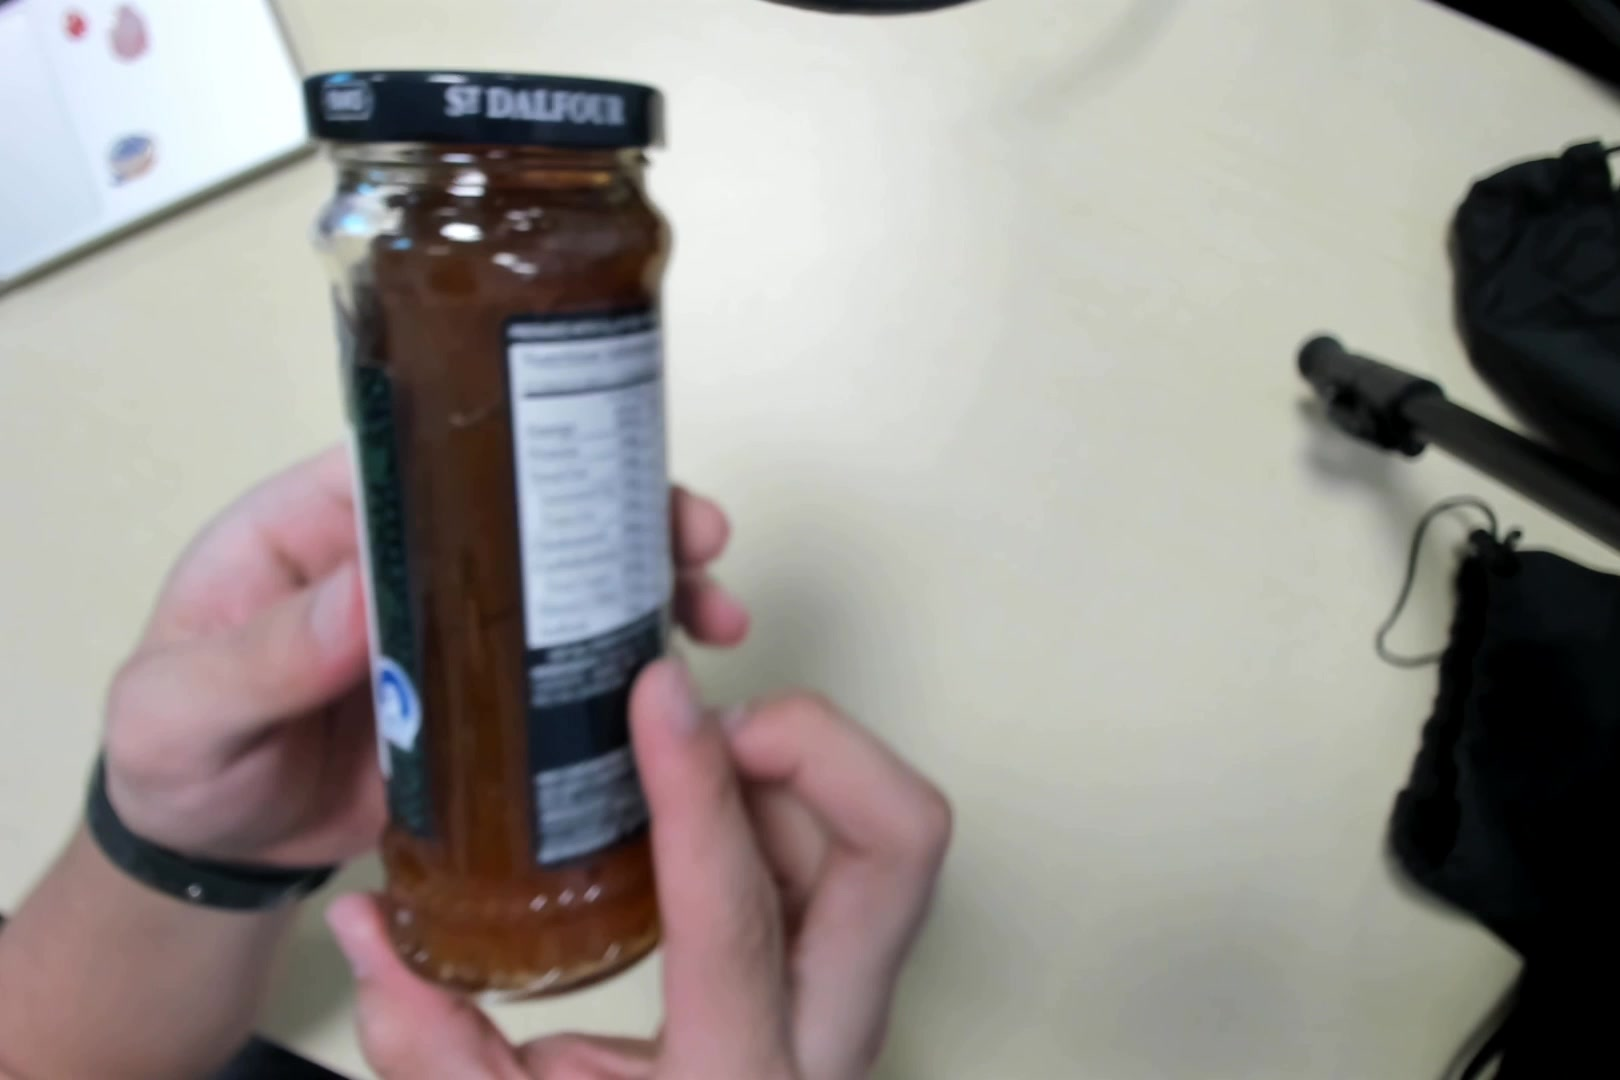Jam_200-299g_Halal_Healthy: (310, 55, 670, 994)
